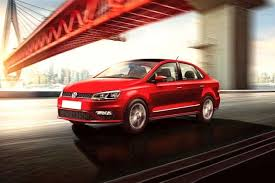car: (53, 56, 222, 138)
